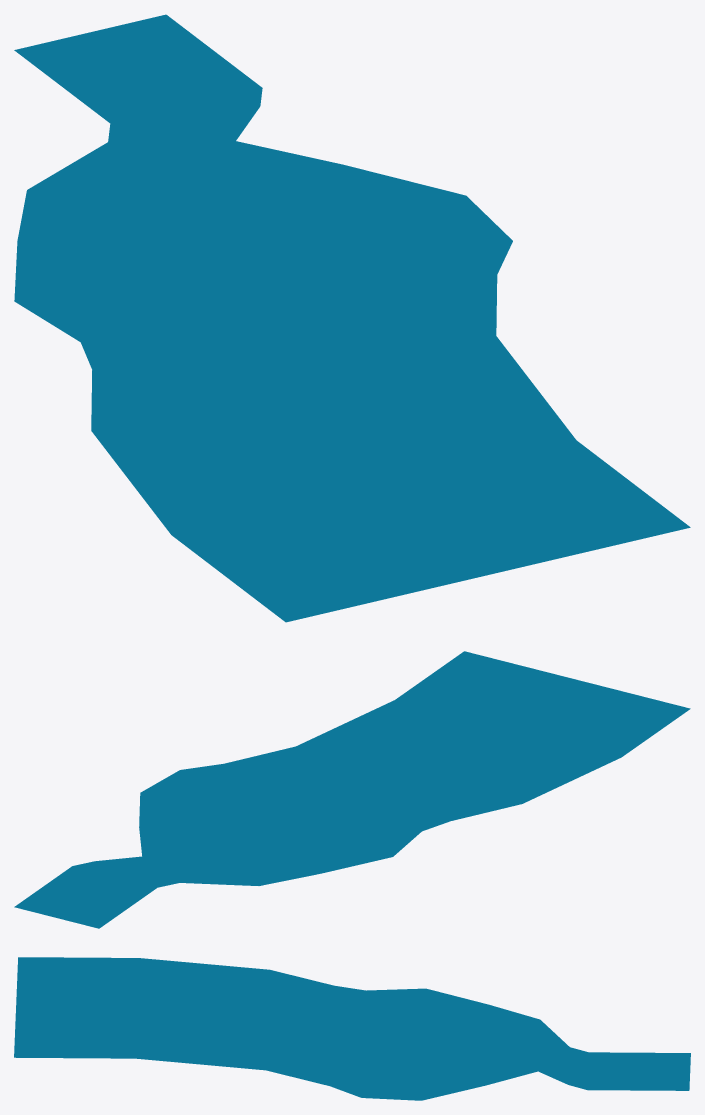
Rendered from lake.fbx.
3 renders of one model, top to bottom at view 1: azimuth 30°, elevation 25°; view 2: azimuth 150°, elevation 25°; view 3: azimuth 270°, elevation 25°, orthographic. The views are drawn at different scales.
Visible parts, largest first — view 1: pPlane2; view 2: pPlane2; view 3: pPlane2.
Boxes of the visible parts, <box> form: pPlane2: <box>14,14,690,622</box>; pPlane2: <box>14,651,690,928</box>; pPlane2: <box>14,957,690,1100</box>.
Bounding box in the file's own units: 38.43 × 0.00497 × 76.53.
